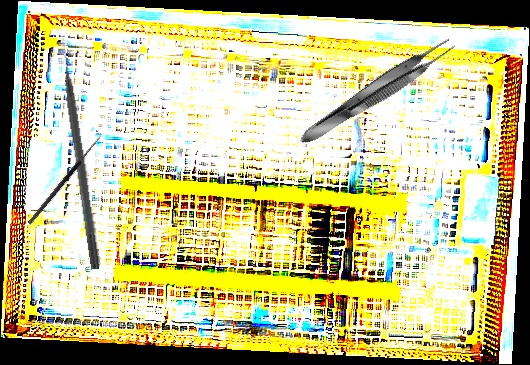Hook Surgical: (23, 129, 104, 226)
Pusher: (57, 37, 104, 270)
Tissue Forceps: (292, 31, 461, 152)
